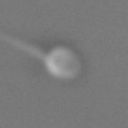normal: (1, 30, 45, 59)
